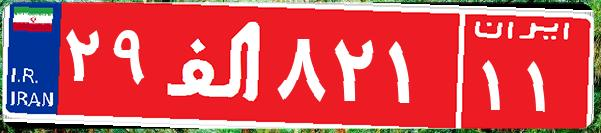1: (385, 28, 445, 110), (475, 38, 525, 113), (525, 38, 570, 115)
2: (330, 28, 385, 110), (57, 26, 110, 107)
8: (273, 28, 330, 110)
9: (110, 28, 158, 105)
الف: (158, 15, 273, 115)
